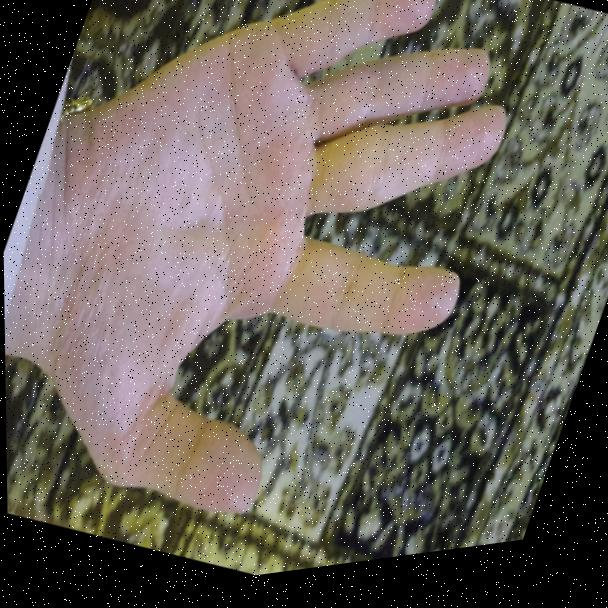five: (0, 0, 573, 599)
